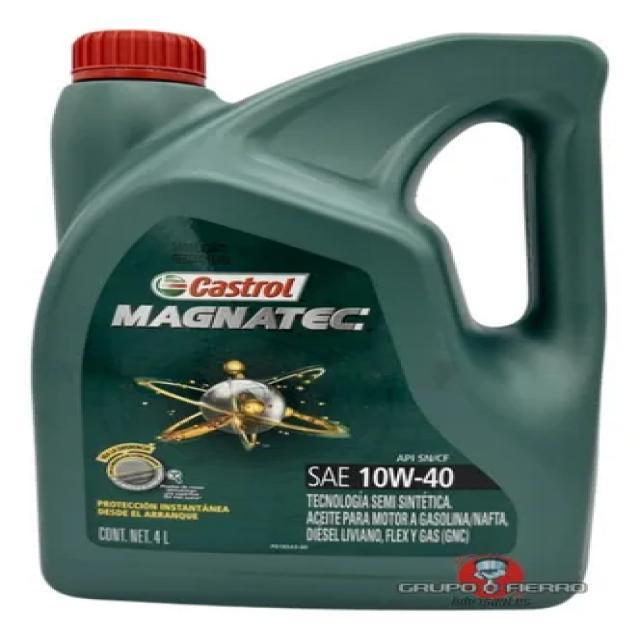motor_oil: (26, 22, 602, 618)
